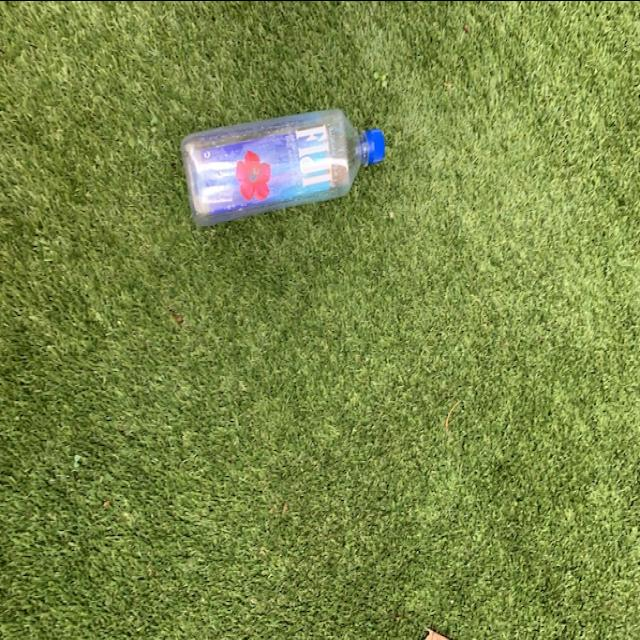litter: (178, 108, 394, 232)
